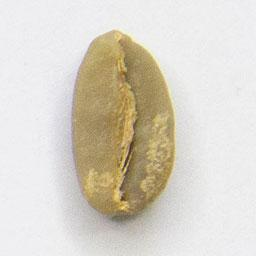longberry: (67, 26, 178, 221)
